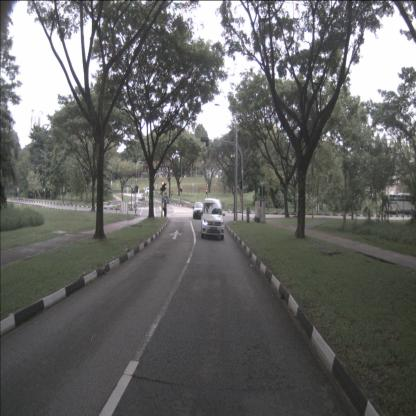human-pedestrian-adult: (162, 200, 166, 216), (164, 200, 167, 216), (157, 189, 159, 197), (159, 190, 160, 197), (171, 191, 172, 198)
vehicle-bus-rigid: (384, 193, 416, 215)
vehicle-car: (201, 198, 224, 240), (193, 202, 203, 220), (144, 187, 154, 194), (163, 196, 170, 204), (138, 193, 145, 201)
